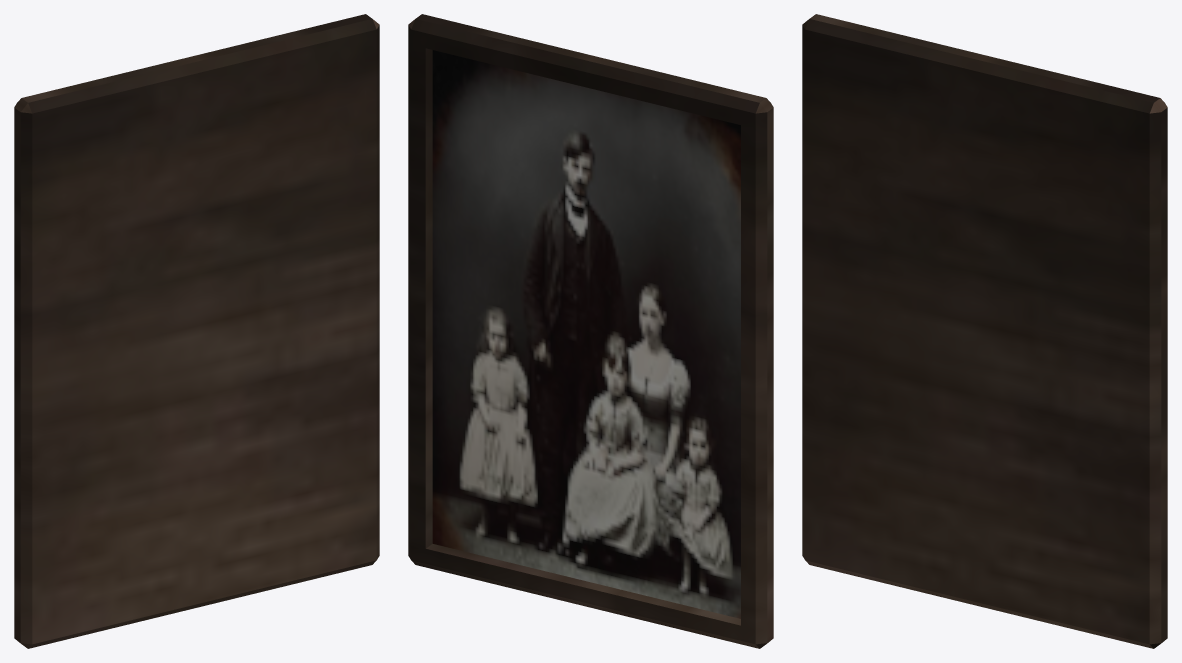
File: quadro3.fbx
3 renders of one model, left to right at view 1: azimuth 30°, elevation 25°; view 2: azimuth 150°, elevation 25°; view 3: azimuth 330°, elevation 25°, orthographic.
Parts seen in each view (by area): view 1: 1; view 2: 1; view 3: 1.
Part boxes in pixels (<box>): 1: <box>14,14,379,648</box>; 1: <box>408,14,773,648</box>; 1: <box>802,14,1167,648</box>.
Size of the model in its own units: 58.46 by 84.98 by 4.24.
1 material, 1 textured.
